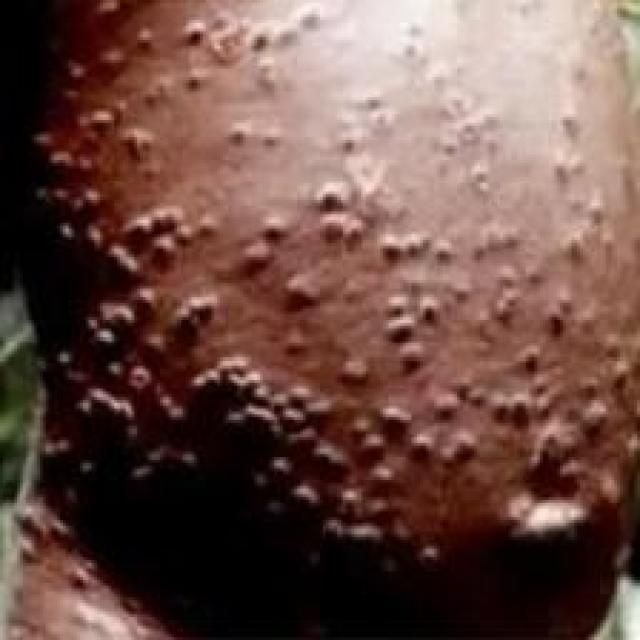monkeypox: (31, 9, 640, 594)
